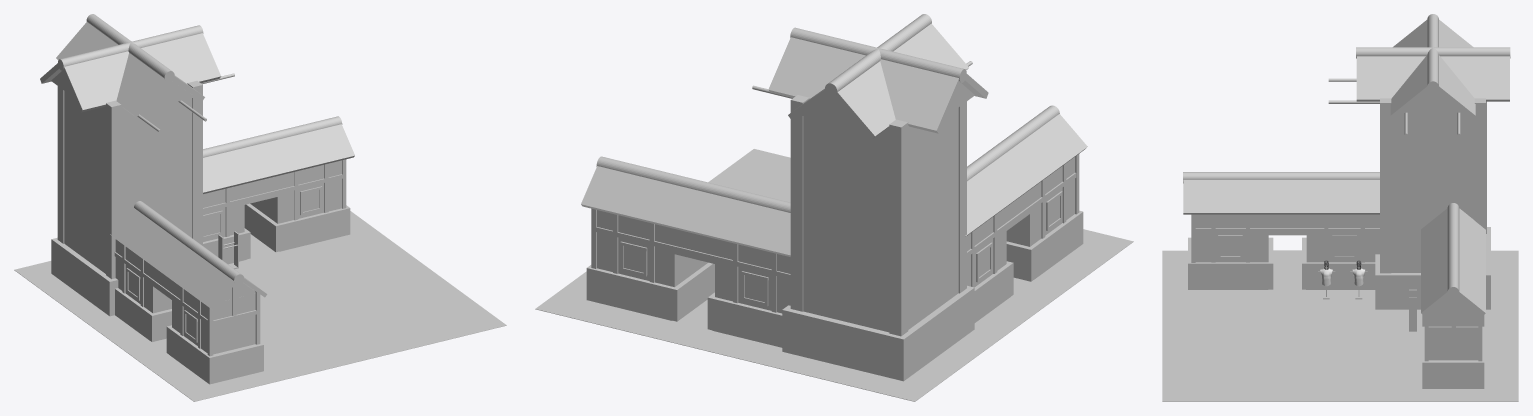
The model's file is barracksH12.fbx.
3 views of the same model, side by side, from view 1: azimuth 30°, elevation 25°; view 2: azimuth 150°, elevation 25°; view 3: azimuth 270°, elevation 25° (orthographic). The views are drawn at different scales.
Visible parts, largest first — view 1: Piedra, FloorGrass, TejadoRojo, PalosMadera, FloorStone, TejadoMadera, Flag2, Ventanas; view 2: Piedra, TejadoRojo, FloorGrass, PalosMadera, TejadoMadera, Ventanas, FloorStone; view 3: FloorGrass, Piedra, TejadoRojo, FloorStone, PalosMadera, TejadoMadera, Ventanas, Armour, Weapons.
Part boxes in pixels (bbox=[...]): Piedra: bbox=[51, 91, 350, 384]; FloorGrass: bbox=[14, 211, 506, 401]; TejadoRojo: bbox=[40, 22, 354, 309]; PalosMadera: bbox=[57, 73, 346, 356]; FloorStone: bbox=[122, 234, 447, 361]; TejadoMadera: bbox=[51, 14, 342, 301]; Flag2: bbox=[132, 101, 180, 198]; Ventanas: bbox=[126, 186, 322, 342]; Piedra: bbox=[586, 107, 1083, 381]; TejadoRojo: bbox=[581, 23, 1087, 256]; FloorGrass: bbox=[535, 149, 1133, 401]; PalosMadera: bbox=[591, 61, 1079, 336]; TejadoMadera: bbox=[596, 14, 1059, 212]; Ventanas: bbox=[620, 191, 1062, 306]; FloorStone: bbox=[655, 277, 1067, 342]; FloorGrass: bbox=[1162, 250, 1518, 401]; Piedra: bbox=[1188, 112, 1490, 388]; TejadoRojo: bbox=[1183, 19, 1509, 315]; FloorStone: bbox=[1162, 250, 1512, 397]; PalosMadera: bbox=[1191, 78, 1486, 361]; TejadoMadera: bbox=[1183, 14, 1510, 310]; Ventanas: bbox=[1218, 235, 1356, 259]; Armour: bbox=[1318, 260, 1367, 299]; Weapons: bbox=[1409, 289, 1416, 331].
Size of the model in its own units: 1898 by 1399 by 1894.
